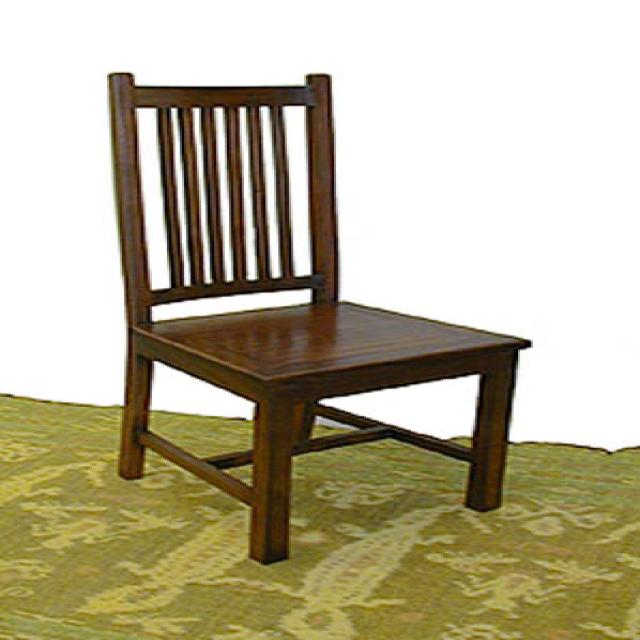chair: (103, 71, 536, 566)
